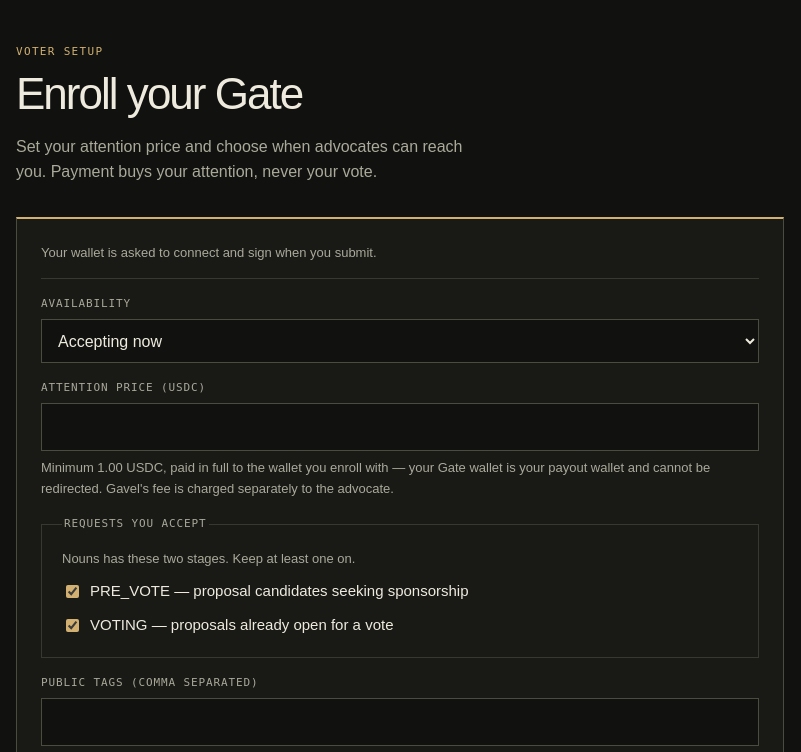
Enrollment › reports the resulting opt-in state the server confirmed
The image size is (801, 752).
Type "5.00" into the field labelled "Attention price (USDC)" at [400, 427], box [41, 403, 759, 452]
(page scrolled)
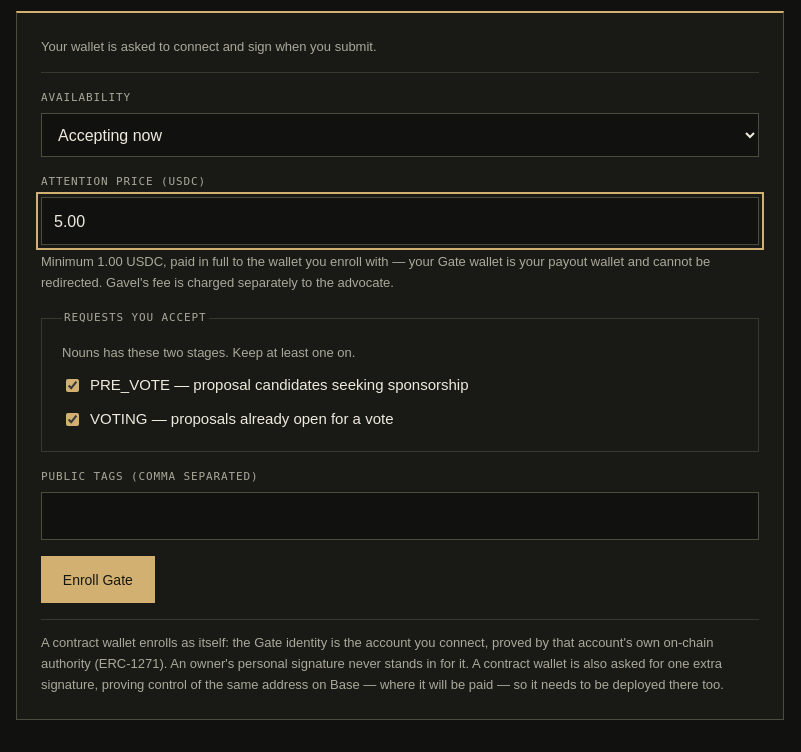
Click the button "Enroll Gate" at [98, 580], box [41, 556, 155, 603]
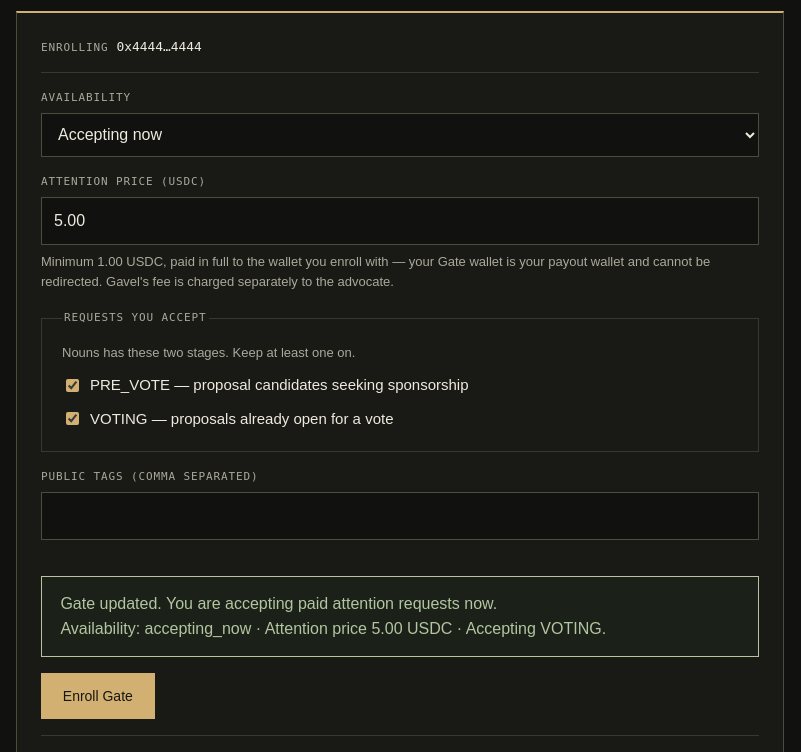
expect the message shows "accepting paid attention requests now": met, box [166, 595, 497, 612]
expect the message shows "5.00 USDC": met, box [251, 620, 602, 637]
expect the message shows "VOTING": met, box [251, 620, 602, 637]
